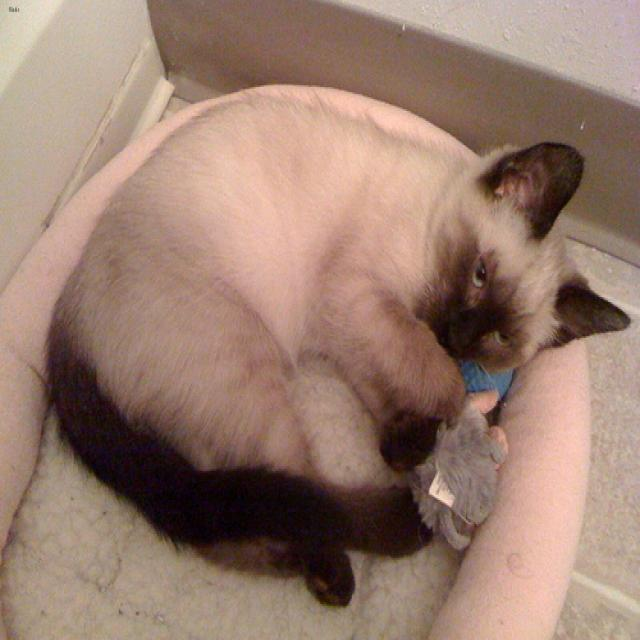cat: (412, 140, 629, 369)
